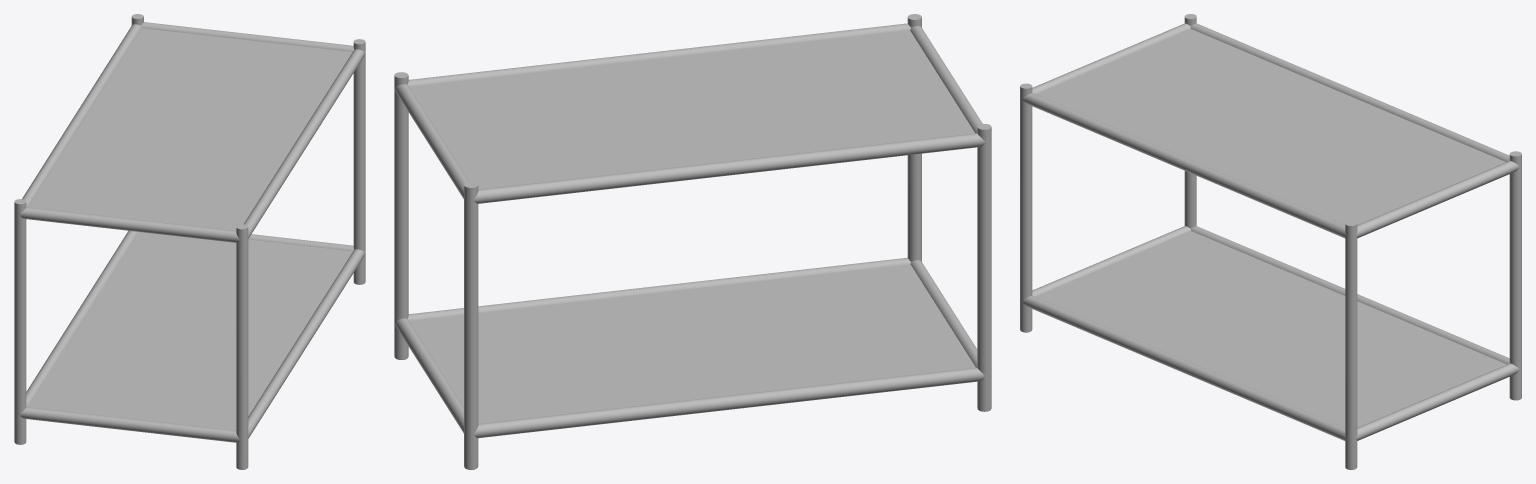
Rendered from cabinet_frame_01.glb.
3 views of the same model, side by side, from view 1: azimuth 30°, elevation 25°; view 2: azimuth 150°, elevation 25°; view 3: azimuth 270°, elevation 25° (orthographic). The views are drawn at different scales.
Parts seen in each view (by area): view 1: cabinet_frame_01; view 2: cabinet_frame_01; view 3: cabinet_frame_01.
Boxes of the visible parts, x1,y1,x2,y2 form: cabinet_frame_01: (14, 14, 365, 469); cabinet_frame_01: (394, 14, 991, 469); cabinet_frame_01: (1020, 14, 1521, 469).
Bounding box in the file's own units: 0.8185 × 0.4396 × 0.8185.
Materials: 1 (1 with a texture image).
